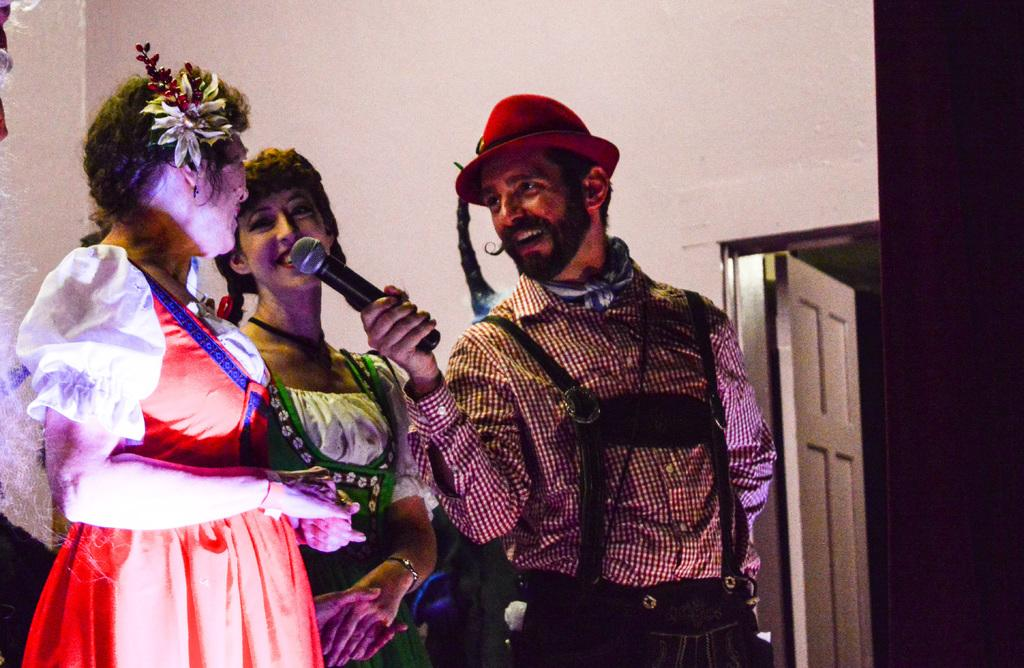Hat: (452, 92, 620, 207)
